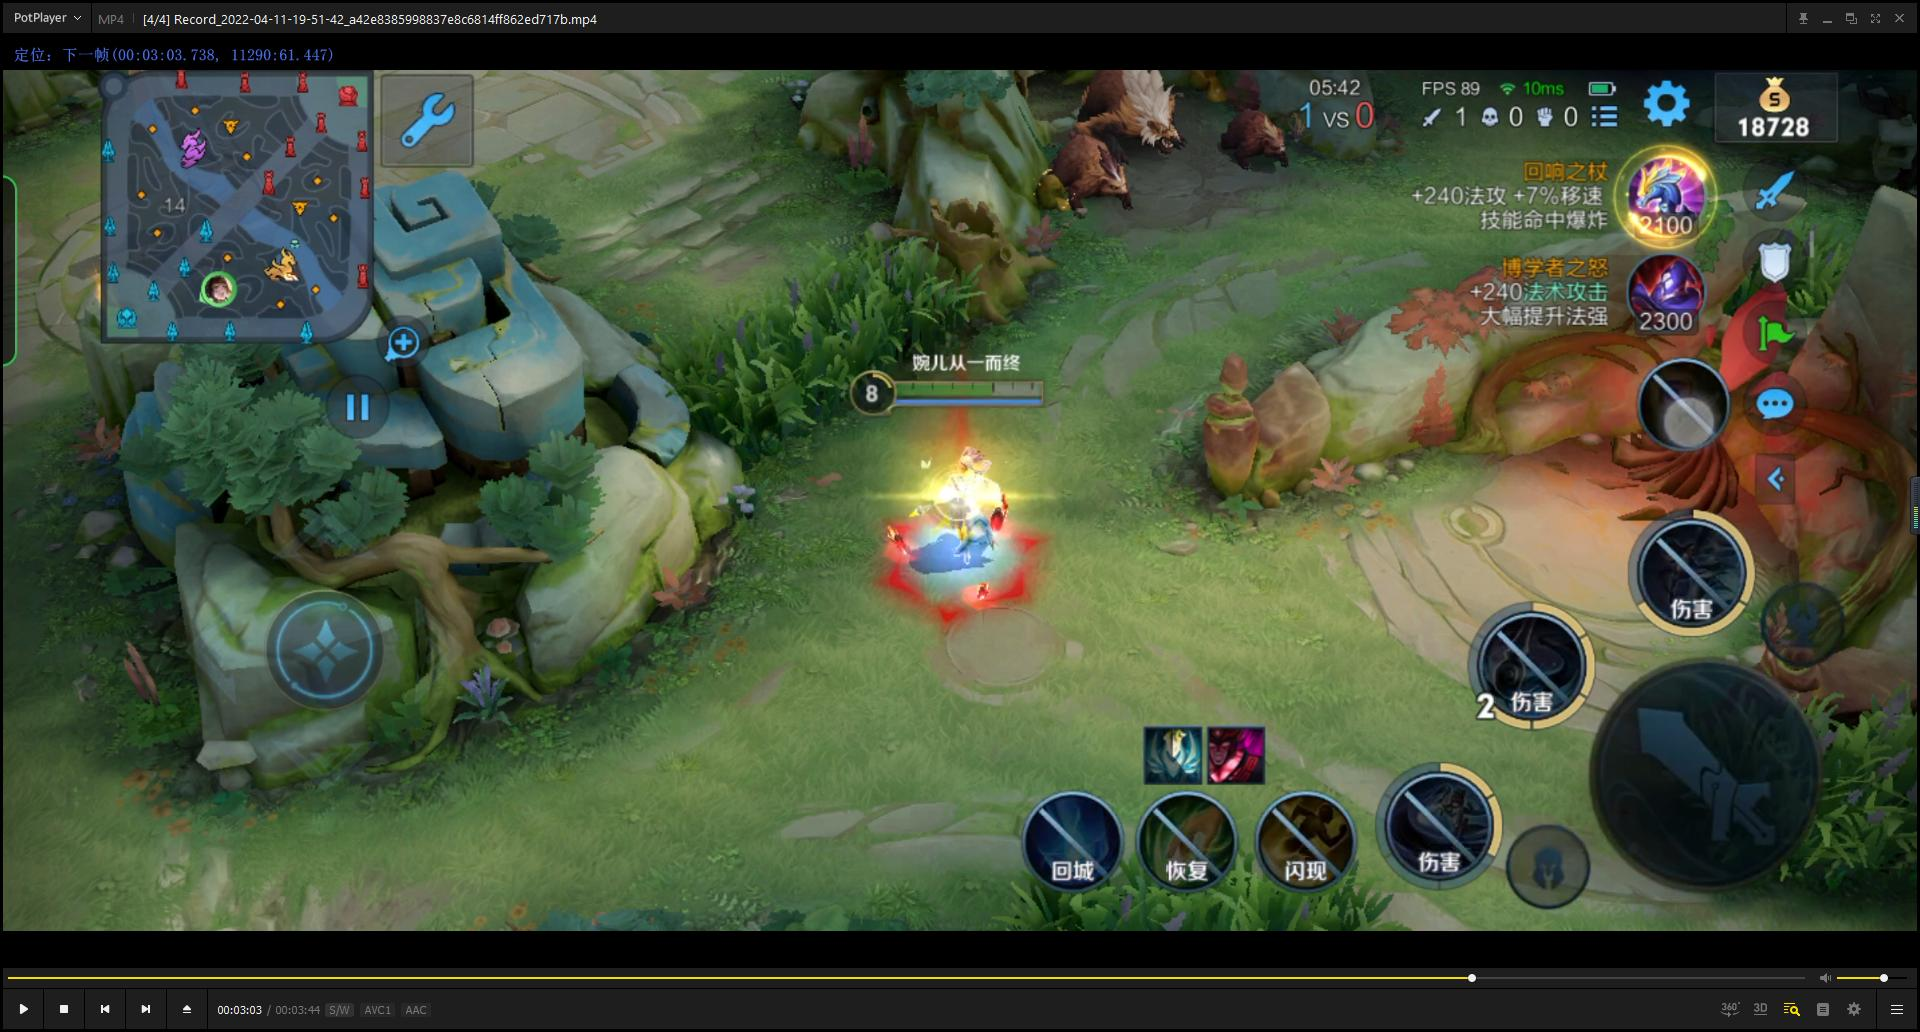Hero: (845, 427, 1065, 613)
Pig: (1011, 122, 1146, 227), (1070, 64, 1191, 163), (1201, 86, 1301, 182)
